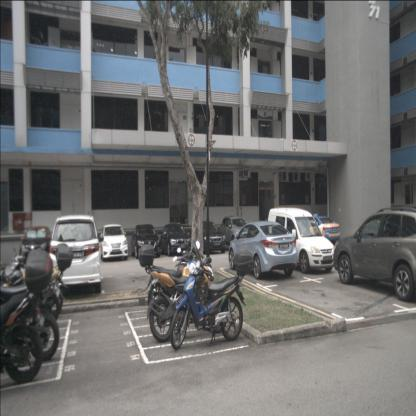human-pedestrian-adult: (31, 34, 42, 54)
vehicle-car: (333, 205, 416, 301), (266, 206, 338, 274), (49, 216, 102, 294), (228, 220, 298, 279), (19, 225, 54, 266), (299, 214, 340, 247), (190, 220, 227, 255), (159, 222, 193, 257), (130, 224, 161, 260), (102, 224, 128, 263), (221, 215, 250, 247)
vehicle-motorcycle: (0, 245, 54, 387), (170, 256, 246, 350), (148, 239, 215, 343), (0, 252, 60, 362), (1, 244, 75, 318)
